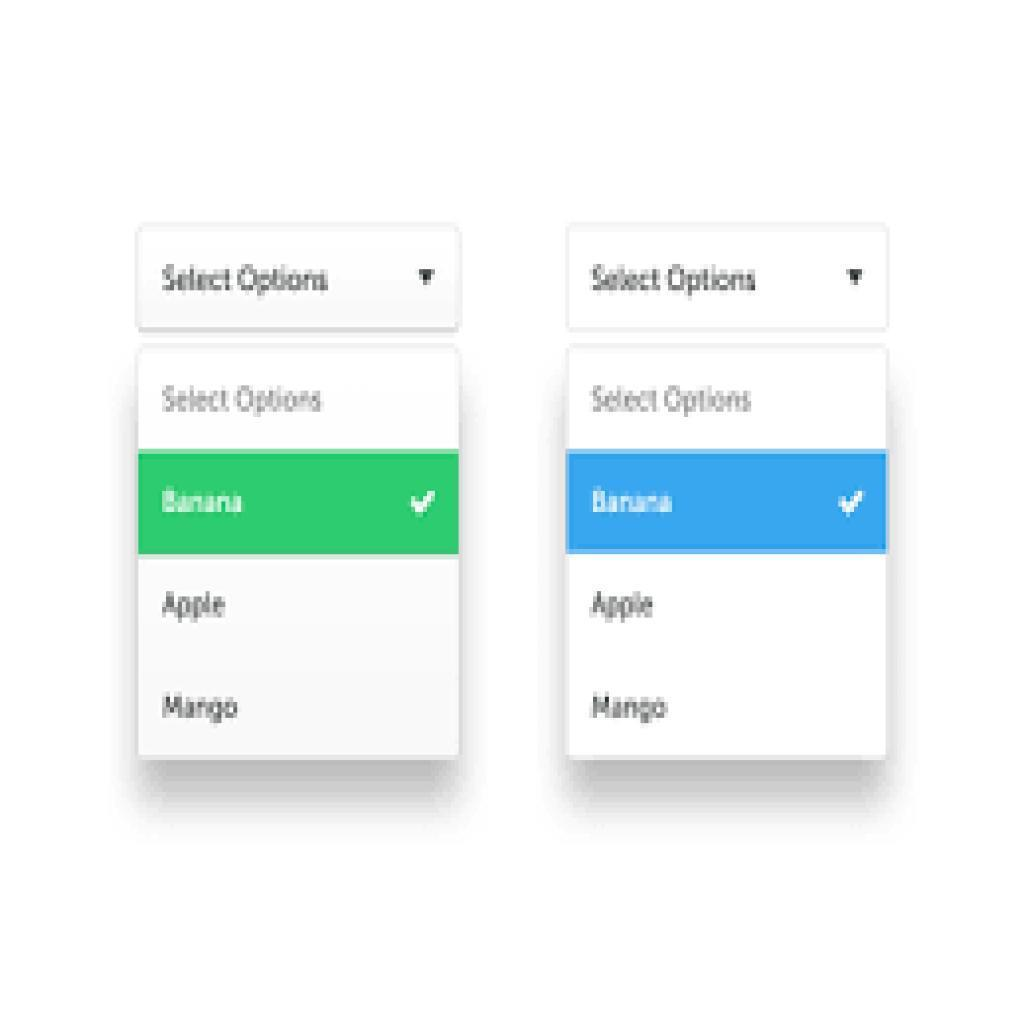button: (136, 452, 461, 560), (567, 452, 890, 553)
dropdown: (137, 228, 467, 334), (575, 226, 889, 322)
label: (157, 373, 331, 427), (585, 377, 756, 422), (157, 682, 243, 724), (585, 587, 666, 631), (160, 584, 237, 625), (590, 689, 673, 725)
